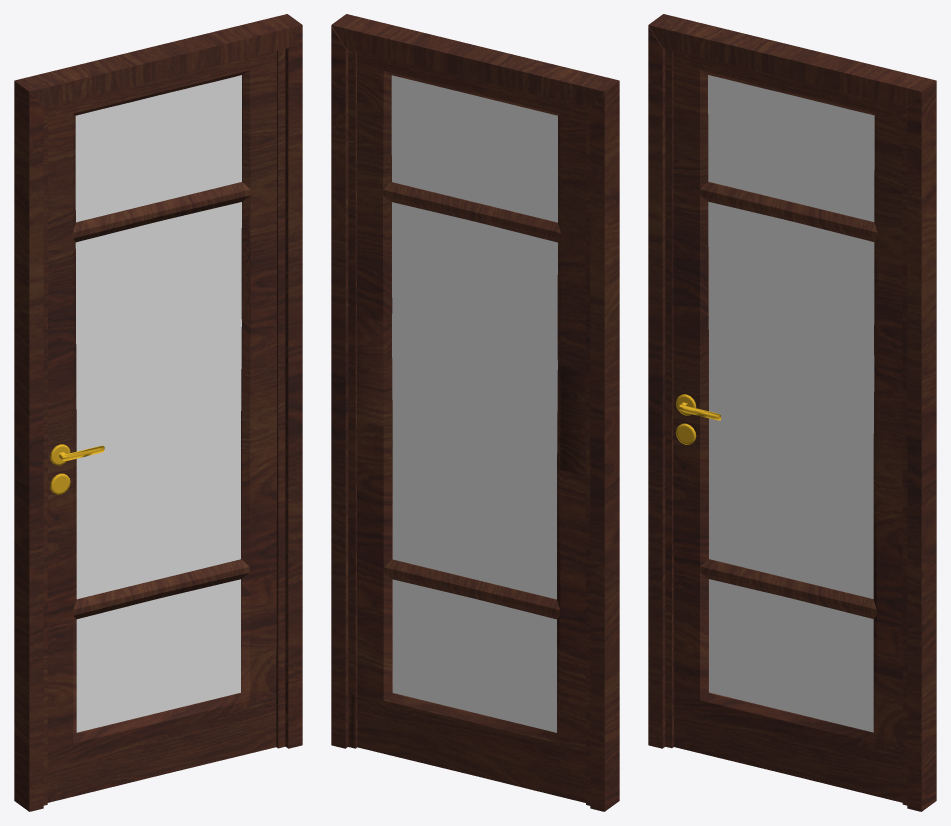
The model's file is PUERTA21_PAUSANIA.glb.
3 renders of one model, left to right at view 1: azimuth 30°, elevation 25°; view 2: azimuth 150°, elevation 25°; view 3: azimuth 330°, elevation 25°, orthographic.
Visible parts, largest first — view 1: CRISTAL_GRANDE, Puerta20_CORTINA, Puerta20_Marco, Puerta20_TAORMINA; view 2: CRISTAL_GRANDE, Puerta20_CORTINA, Puerta20_Marco; view 3: CRISTAL_GRANDE, Puerta20_CORTINA, Puerta20_Marco, Puerta20_TAORMINA.
Part boxes in pixels (bbox=[...]): CRISTAL_GRANDE: bbox=[75, 75, 241, 732]; Puerta20_CORTINA: bbox=[43, 49, 285, 805]; Puerta20_Marco: bbox=[14, 14, 302, 811]; Puerta20_TAORMINA: bbox=[50, 444, 104, 494]; CRISTAL_GRANDE: bbox=[391, 75, 557, 732]; Puerta20_CORTINA: bbox=[348, 49, 590, 805]; Puerta20_Marco: bbox=[331, 14, 619, 811]; CRISTAL_GRANDE: bbox=[708, 75, 874, 732]; Puerta20_CORTINA: bbox=[665, 49, 907, 805]; Puerta20_Marco: bbox=[648, 14, 936, 811]; Puerta20_TAORMINA: bbox=[675, 394, 721, 444].
Bounding box in the file's own units: 769 × 1936 × 85.
Materials: 5 (3 with a texture image).
